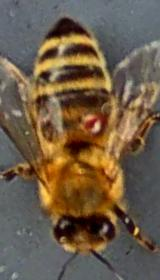varroa_mite: (61, 100, 117, 144)
